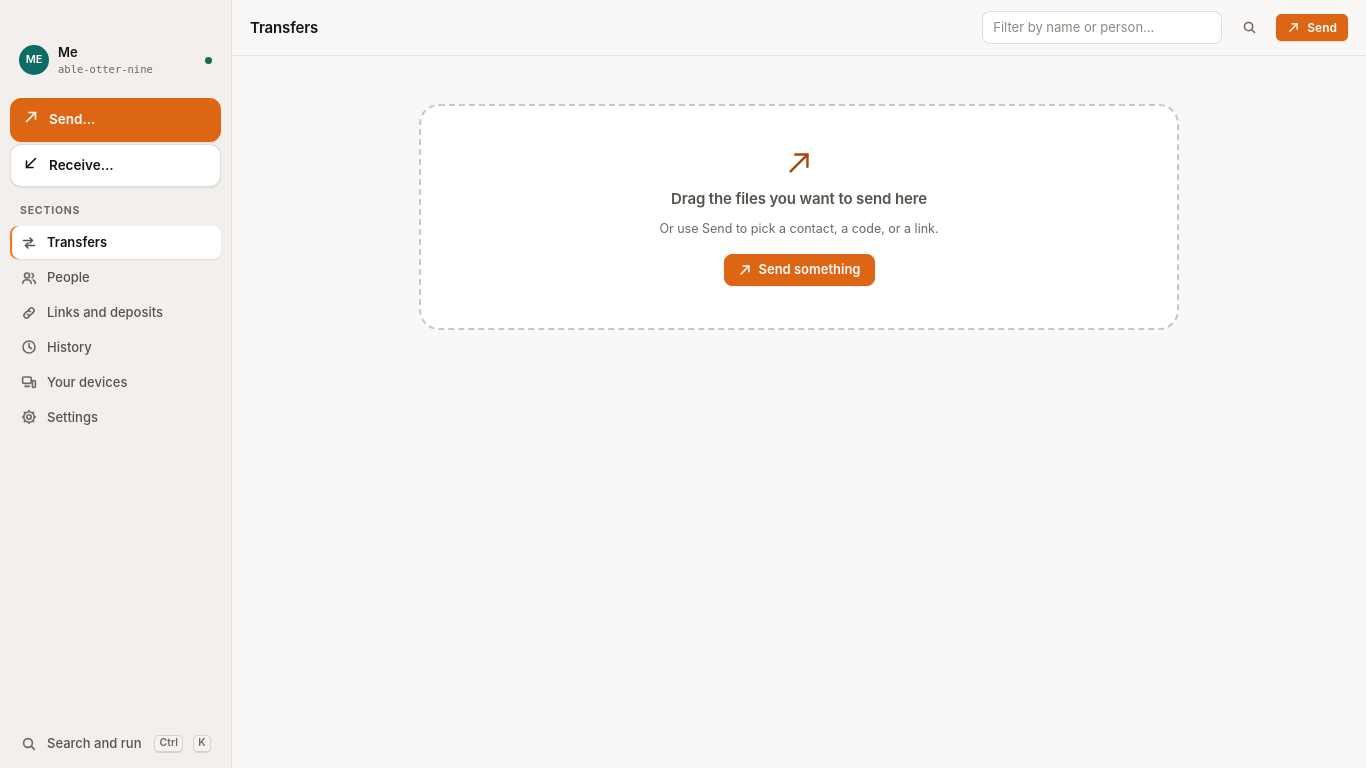
reaching the panel from the app › 160. opening always refetches — nothing pushes this list
The image size is (1366, 768).
Click the button "Links and deposits": point(116, 312) [10,296,221,329]
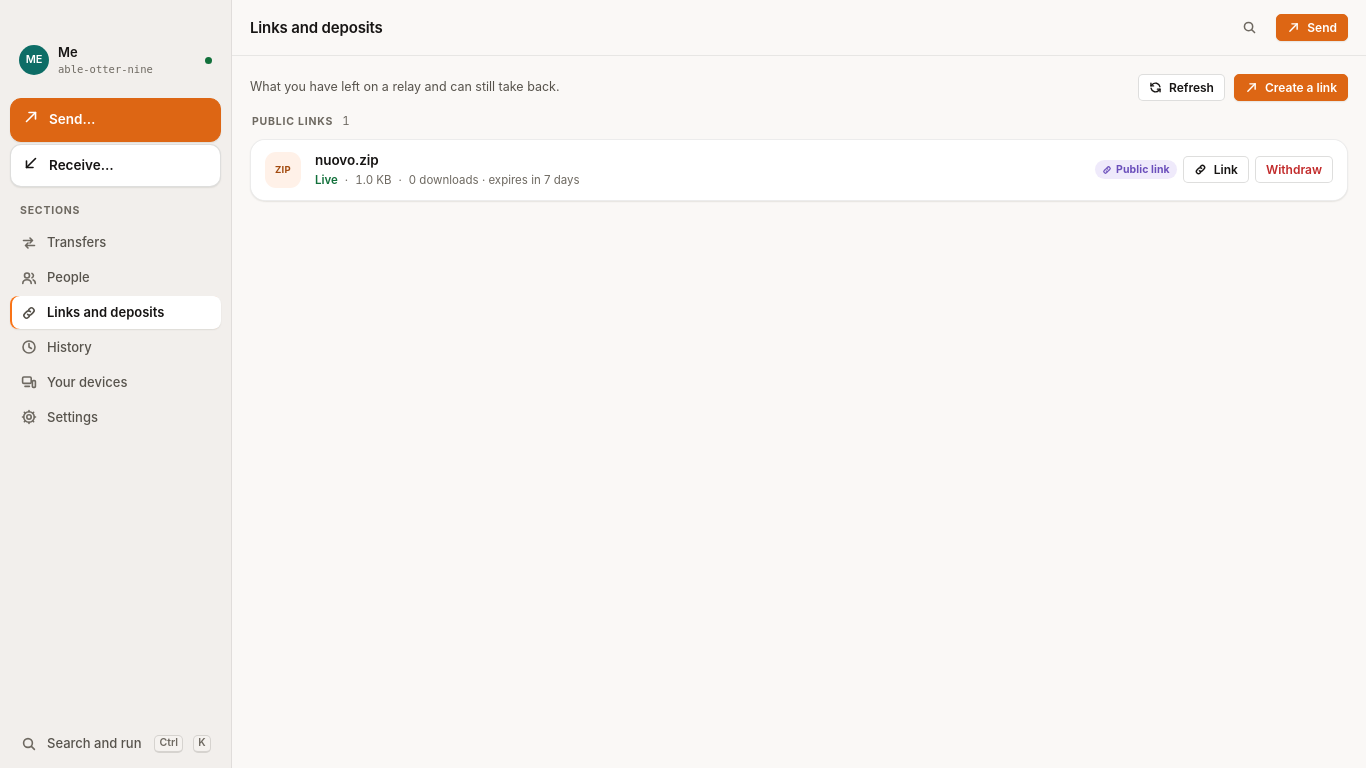
Expected: the text "nuovo.zip" is shown, [315,152,379,168]
